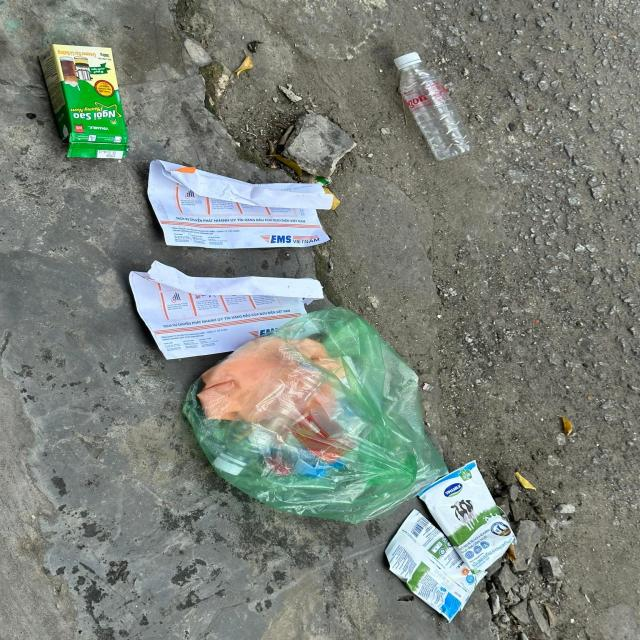bottle: (394, 52, 476, 161)
cardboard box: (39, 44, 130, 159)
packet: (385, 508, 488, 624), (419, 459, 518, 571)
paper: (129, 261, 324, 360), (147, 159, 333, 249)
trash bag: (182, 306, 448, 524)
